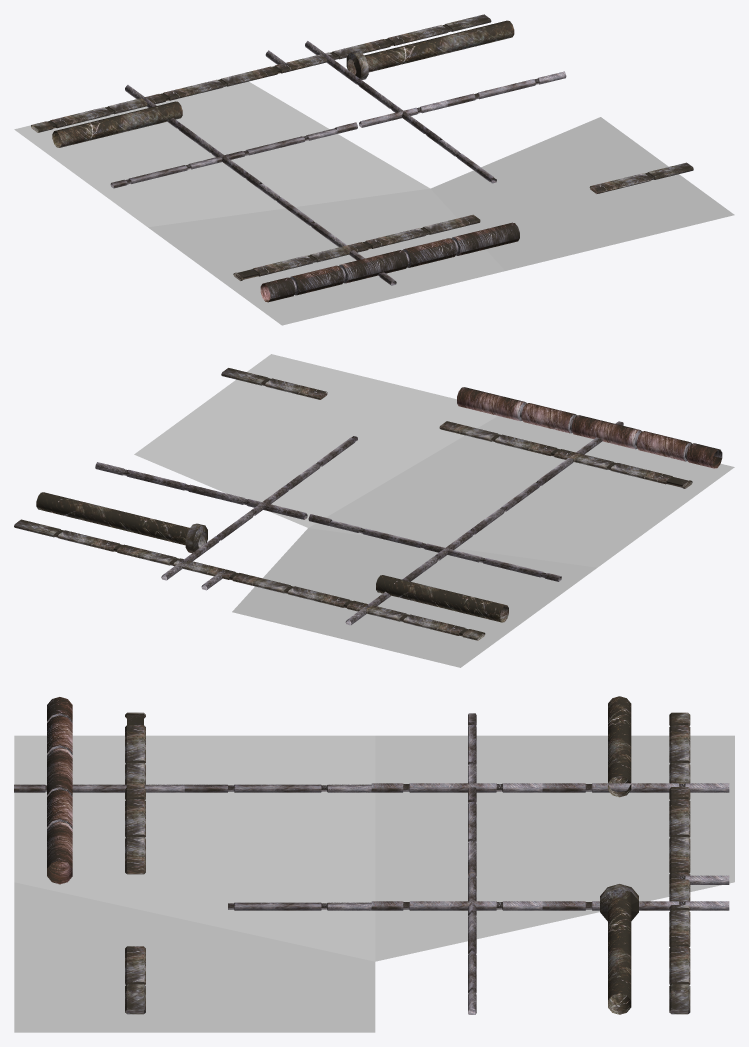
Rendered from metalceiling1.fbx.
3 renders of one model, top to bottom at view 1: azimuth 30°, elevation 25°; view 2: azimuth 150°, elevation 25°; view 3: azimuth 270°, elevation 25°, orthographic. The views are drawn at different scales.
Visible parts, largest first — view 1: polySurface600; view 2: polySurface600; view 3: polySurface600.
Boxes of the visible parts, x1,y1,x2,y2 form: polySurface600: [14, 14, 734, 325]; polySurface600: [14, 354, 734, 667]; polySurface600: [14, 696, 734, 1032].
Size of the model in its own units: 146 by 19.93 by 149.
